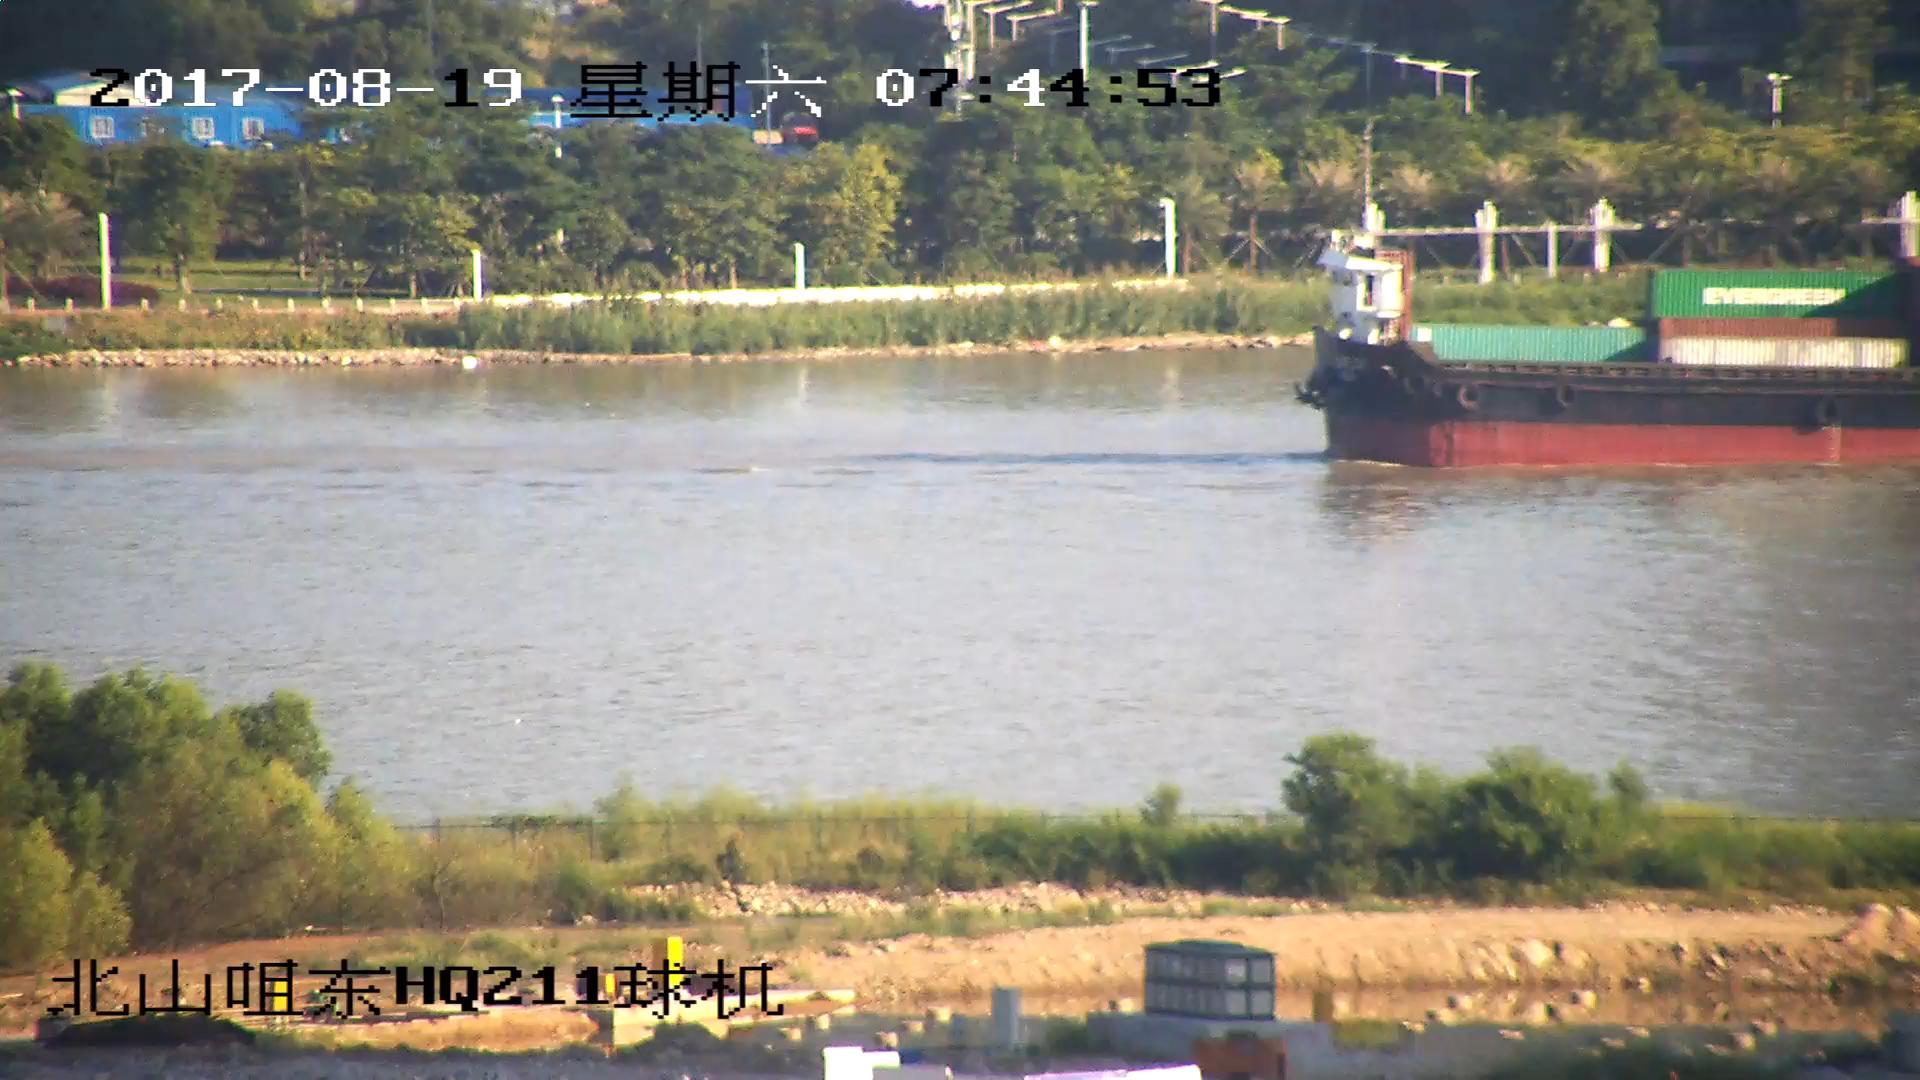container ship: (1286, 124, 1920, 463)
